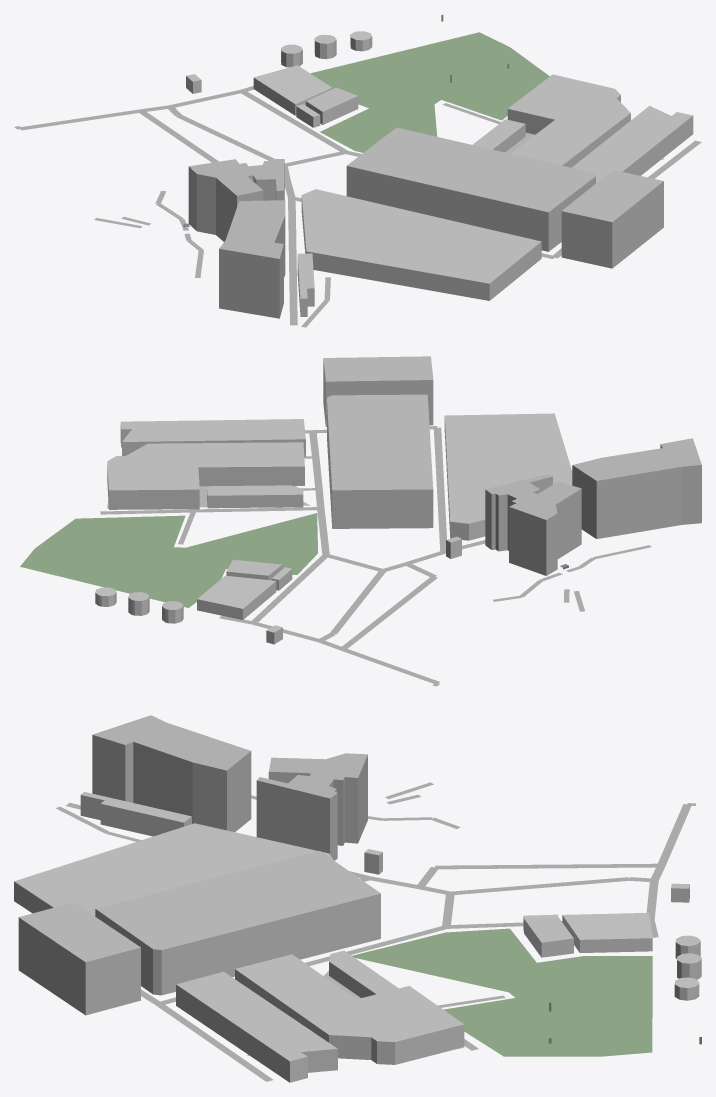
The picture shows the model from 3 angles, top to bottom: view 1: azimuth 30°, elevation 25°; view 2: azimuth 150°, elevation 25°; view 3: azimuth 270°, elevation 25°; orthographic projection. The views are drawn at different scales.
Bounding box in the file's own units: 566 × 62.05 × 548.
